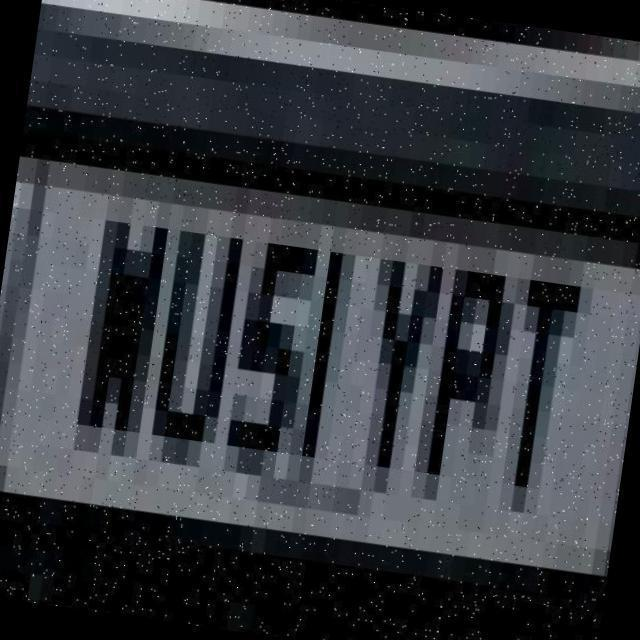License Plate: (0, 73, 640, 632)
